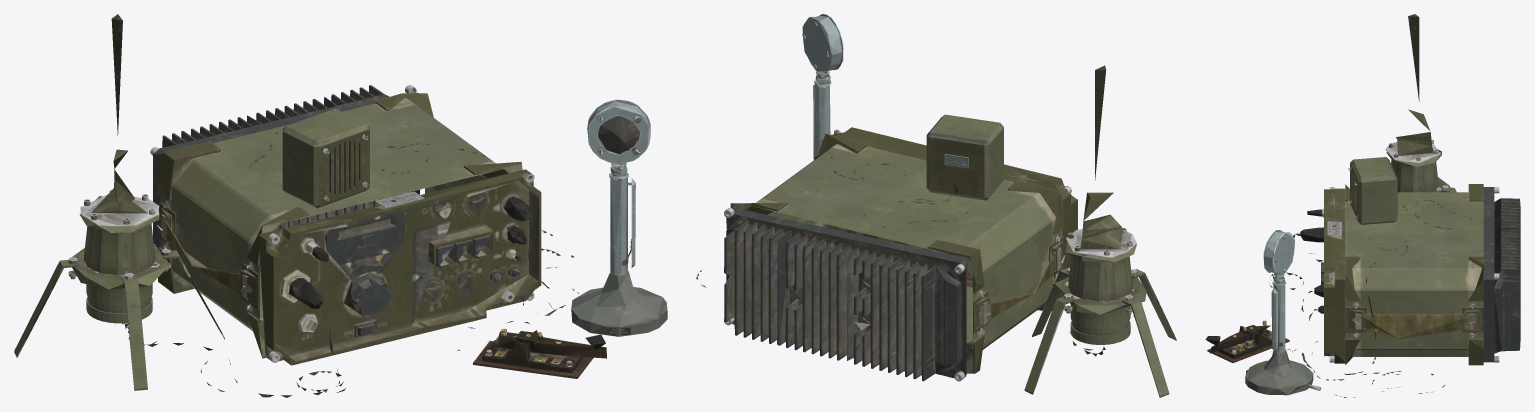
Rendered from radio.glb.
The picture shows the model from 3 angles, left to right: view 1: azimuth 30°, elevation 25°; view 2: azimuth 150°, elevation 25°; view 3: azimuth 270°, elevation 25°; orthographic projection. The views are drawn at different scales.
Parts seen in each view (by area): view 1: vintage_radio_transceiver, vintage_radio_transceiver_cable; view 2: vintage_radio_transceiver, vintage_radio_transceiver_cable; view 3: vintage_radio_transceiver, vintage_radio_transceiver_cable.
Part boxes in pixels (x1,y1,x2,y2): vintage_radio_transceiver: (150,85,541,365); vintage_radio_transceiver_cable: (14,14,667,397); vintage_radio_transceiver: (724,127,1077,381); vintage_radio_transceiver_cable: (696,14,1176,397); vintage_radio_transceiver: (1321,184,1520,365); vintage_radio_transceiver_cable: (1205,14,1472,397).
Size of the model in its own units: 0.5739 by 0.3332 by 0.4128.
Materials: 2 (2 with a texture image).
